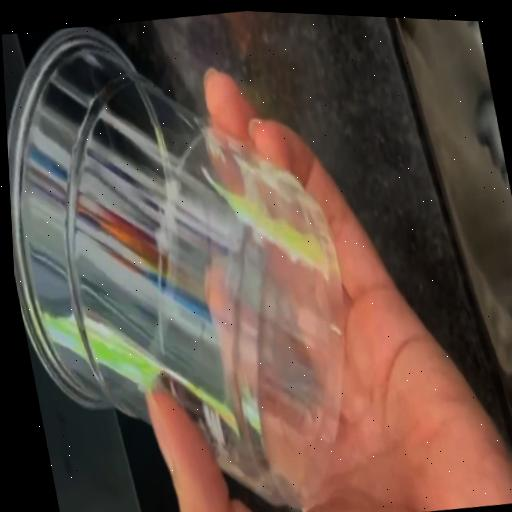ly_nhua: (7, 26, 344, 507)
